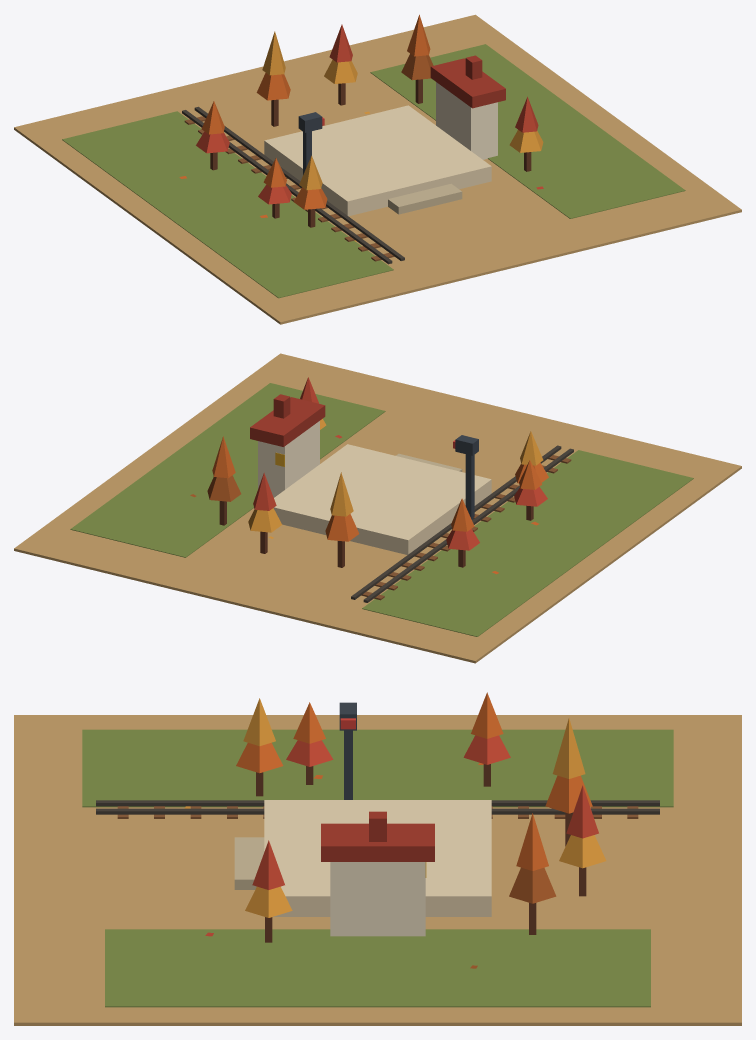
The model's file is env_rail.glb.
The picture shows the model from 3 angles, top to bottom: view 1: azimuth 30°, elevation 25°; view 2: azimuth 150°, elevation 25°; view 3: azimuth 270°, elevation 25°; orthographic projection. The views are drawn at different scales.
Parts seen in each view (by area): view 1: RL_ground, RL_platform, RL_trees, RL_station, RL_rails, RL_steps, RL_sleepers, RL_signal; view 2: RL_ground, RL_platform, RL_trees, RL_station, RL_rails, RL_signal, RL_sleepers; view 3: RL_ground, RL_platform, RL_trees, RL_station, RL_rails, RL_steps, RL_signal, RL_sleepers.
Boxes of the visible parts, bbox=[...] form: RL_ground: bbox=[14, 14, 741, 324]; RL_platform: bbox=[264, 105, 491, 216]; RL_trees: bbox=[196, 14, 543, 227]; RL_station: bbox=[430, 55, 505, 159]; RL_rails: bbox=[182, 106, 404, 264]; RL_steps: bbox=[388, 183, 462, 214]; RL_sleepers: bbox=[184, 116, 394, 261]; RL_signal: bbox=[298, 112, 324, 174]; RL_ground: bbox=[14, 353, 741, 663]; RL_platform: bbox=[273, 444, 491, 554]; RL_trees: bbox=[207, 377, 548, 567]; RL_station: bbox=[250, 394, 325, 497]; RL_rails: bbox=[351, 445, 573, 602]; RL_signal: bbox=[453, 435, 478, 519]; RL_sleepers: bbox=[361, 455, 571, 600]; RL_ground: bbox=[14, 715, 741, 1025]; RL_platform: bbox=[264, 800, 491, 916]; RL_trees: bbox=[236, 692, 606, 942]; RL_station: bbox=[321, 811, 434, 936]; RL_rails: bbox=[96, 800, 659, 814]; RL_steps: bbox=[234, 837, 264, 889]; RL_signal: bbox=[339, 702, 356, 799]; RL_sleepers: bbox=[117, 806, 638, 818].
Size of the model in its own units: 16 by 3.21 by 16.
Materials: 1 (1 with a texture image).
